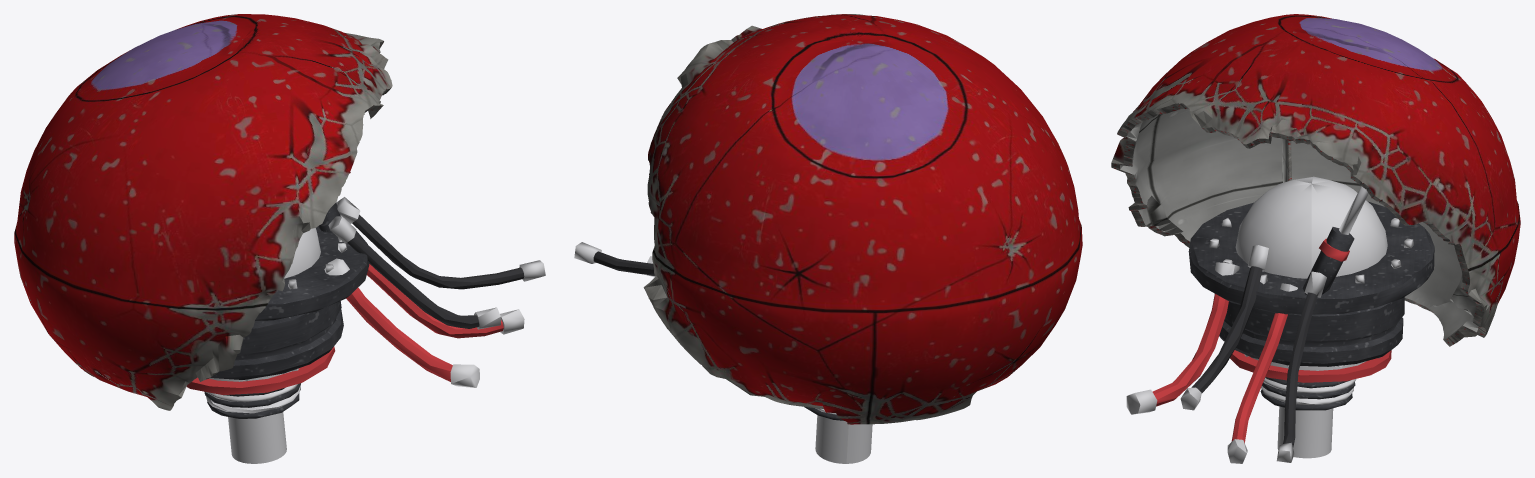
The model's file is baymax_shoulder_shell_lod1.glb.
3 renders of one model, left to right at view 1: azimuth 30°, elevation 25°; view 2: azimuth 150°, elevation 25°; view 3: azimuth 270°, elevation 25°, orthographic. The views are drawn at different scales.
Parts seen in each view (by area): view 1: baymax_shoulder_shell; view 2: baymax_shoulder_shell; view 3: baymax_shoulder_shell.
Part boxes in pixels (bbox=[...]): baymax_shoulder_shell: bbox=[14, 14, 545, 463]; baymax_shoulder_shell: bbox=[574, 14, 1082, 463]; baymax_shoulder_shell: bbox=[1111, 14, 1520, 463].
Size of the model in its own units: 0.9671 by 0.7869 by 0.7163.
7 materials, 4 textured.
